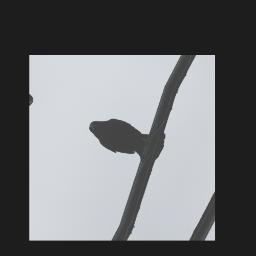Crow: (83, 107, 169, 170)
